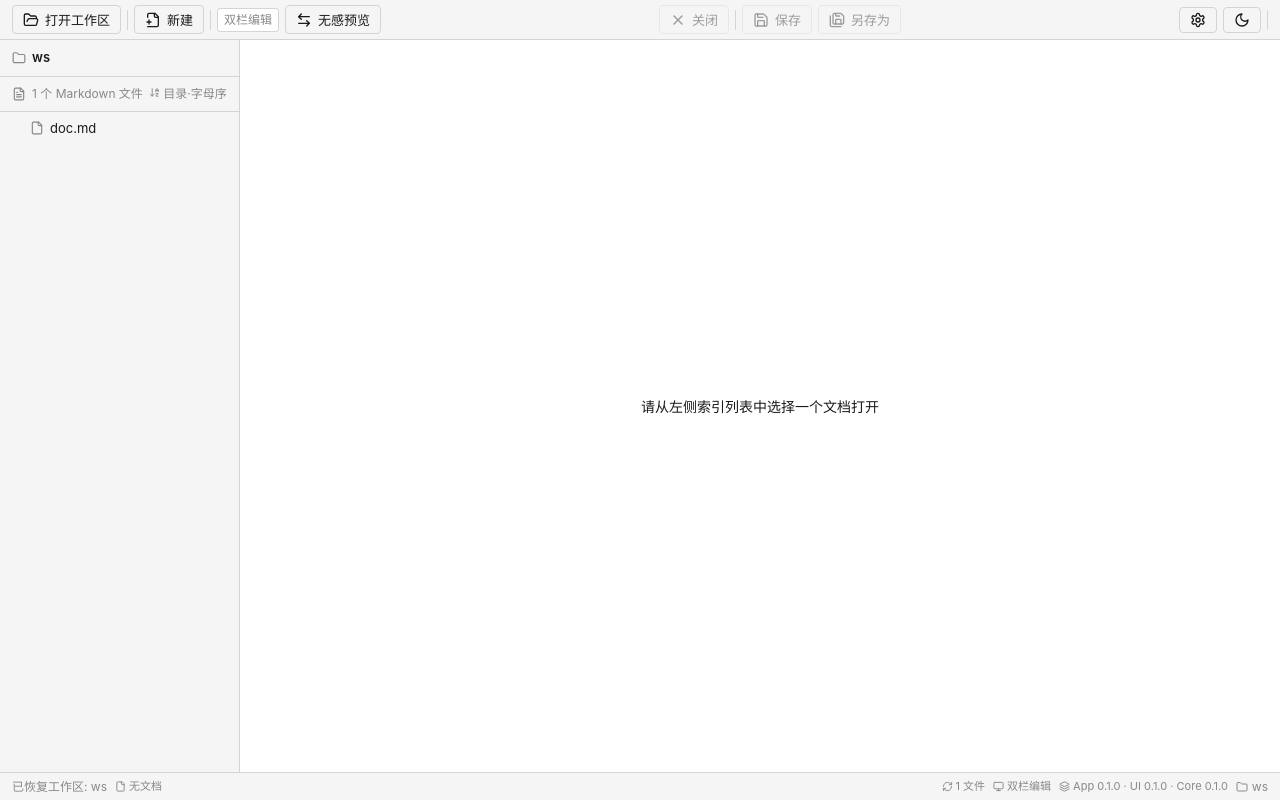
Test: App.tsx document switch (T38) › opening failure exits loading and shows error message
The width and height of the screenshot is (1280, 800).
Step 1. Click the button with class "tree-node-row--file" → (63, 128), box [30,120,96,136]
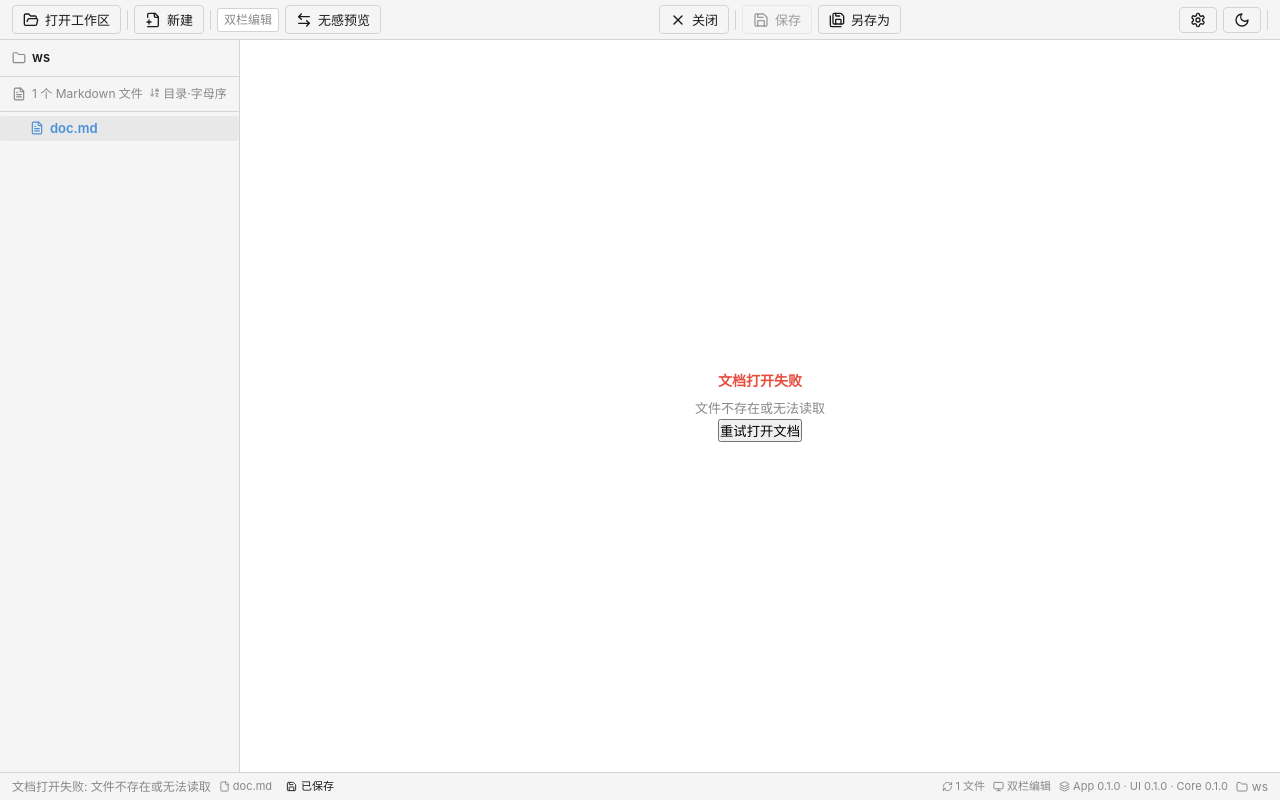
Result: the text "文件不存在或无法读取" is shown at [695,399,825,419]
